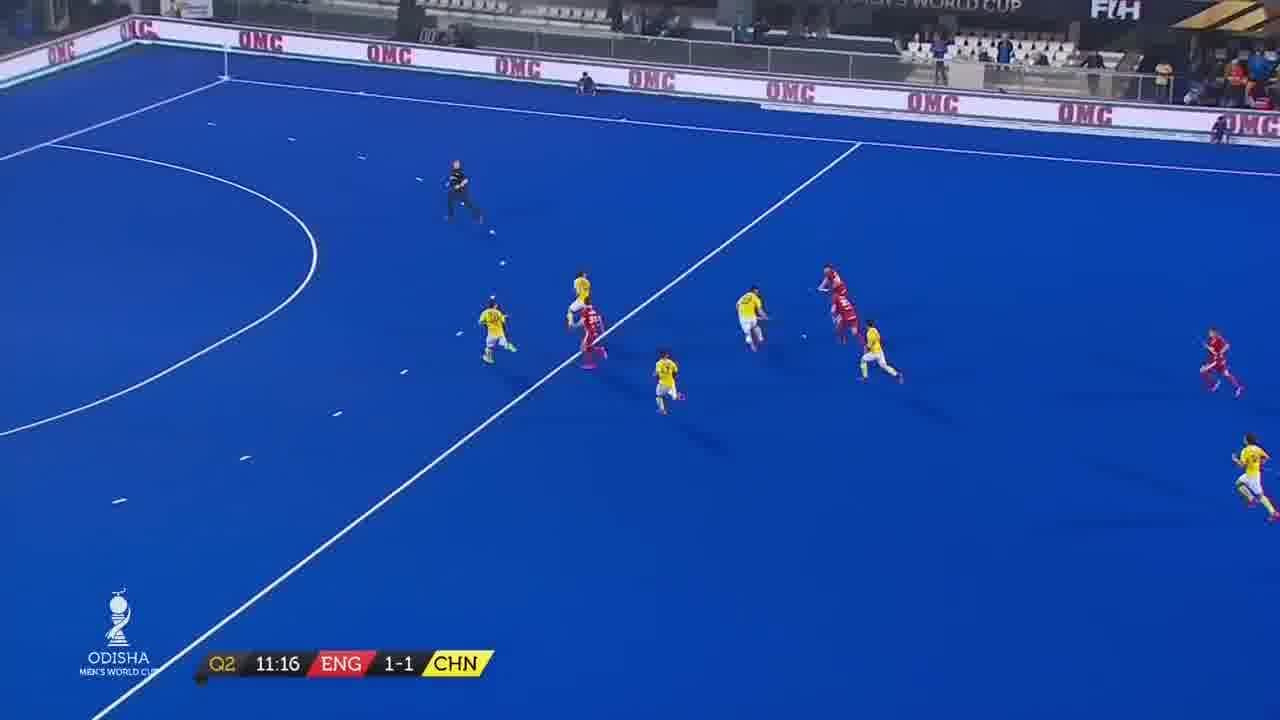ball: (798, 330, 812, 345)
